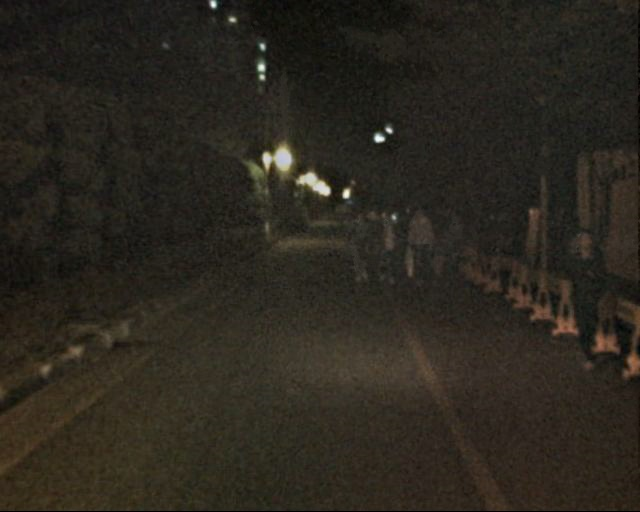person: (556, 232, 608, 358), (404, 210, 436, 289), (369, 213, 399, 285), (346, 210, 376, 282), (442, 211, 470, 279), (387, 213, 412, 275), (426, 220, 451, 281)
